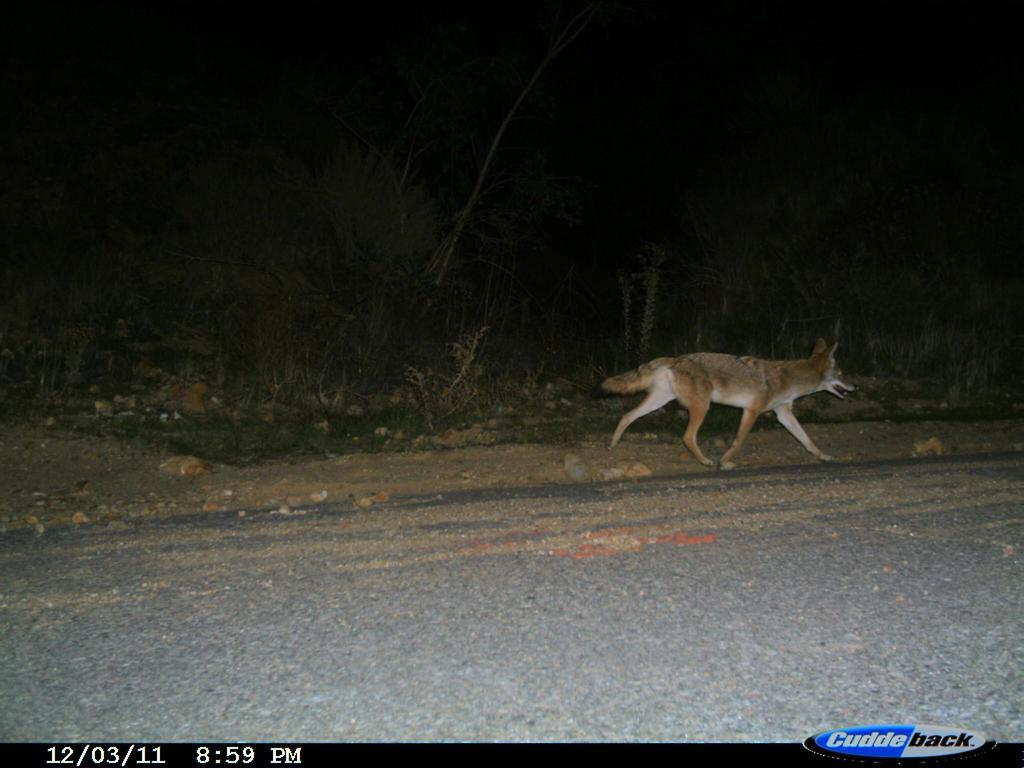coyote: (588, 331, 866, 483)
